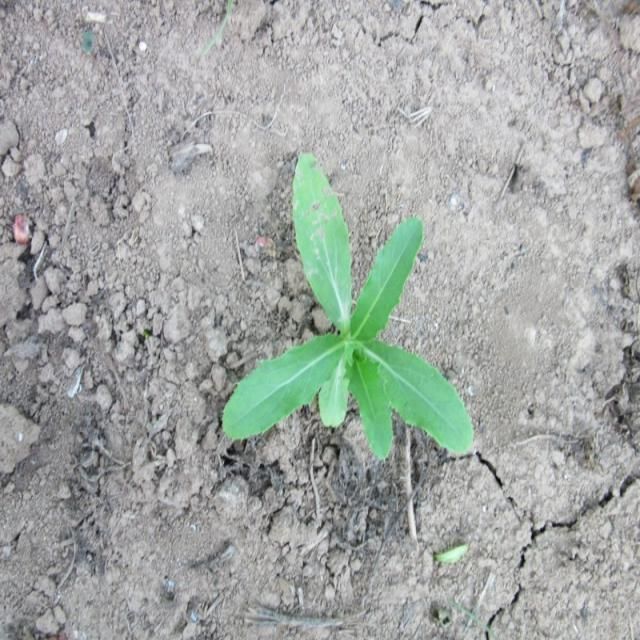cs: (221, 148, 476, 463)
